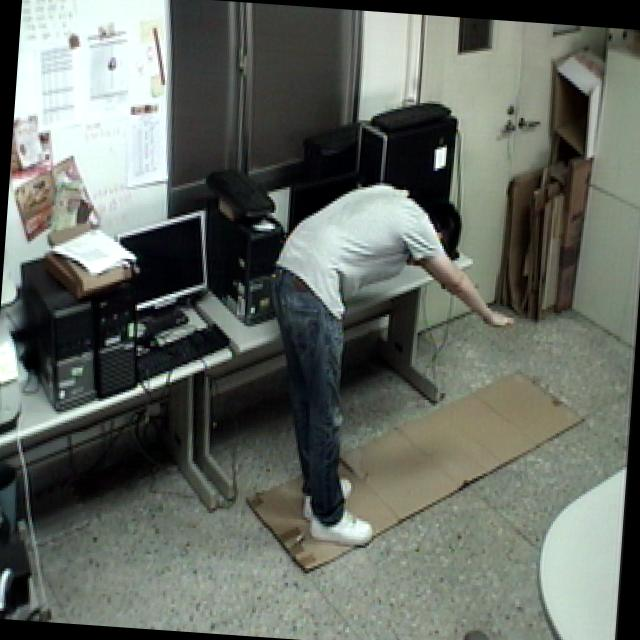bend: (240, 174, 522, 564)
